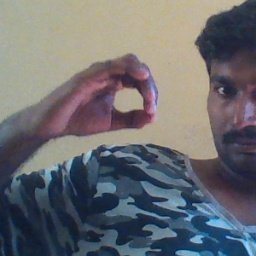O: (43, 49, 164, 137)
